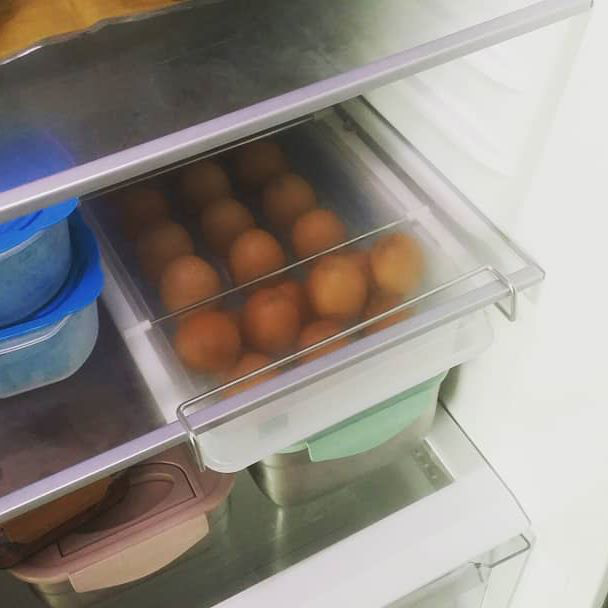egg: (120, 130, 440, 391)
